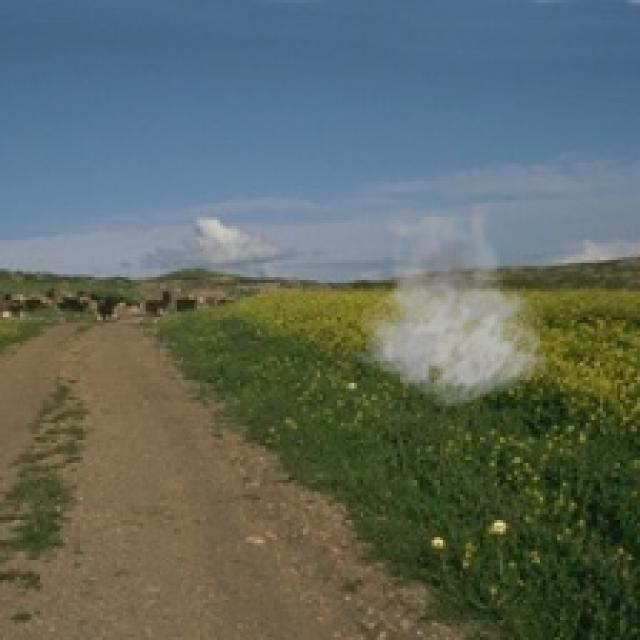Smoke: (348, 197, 552, 409)
